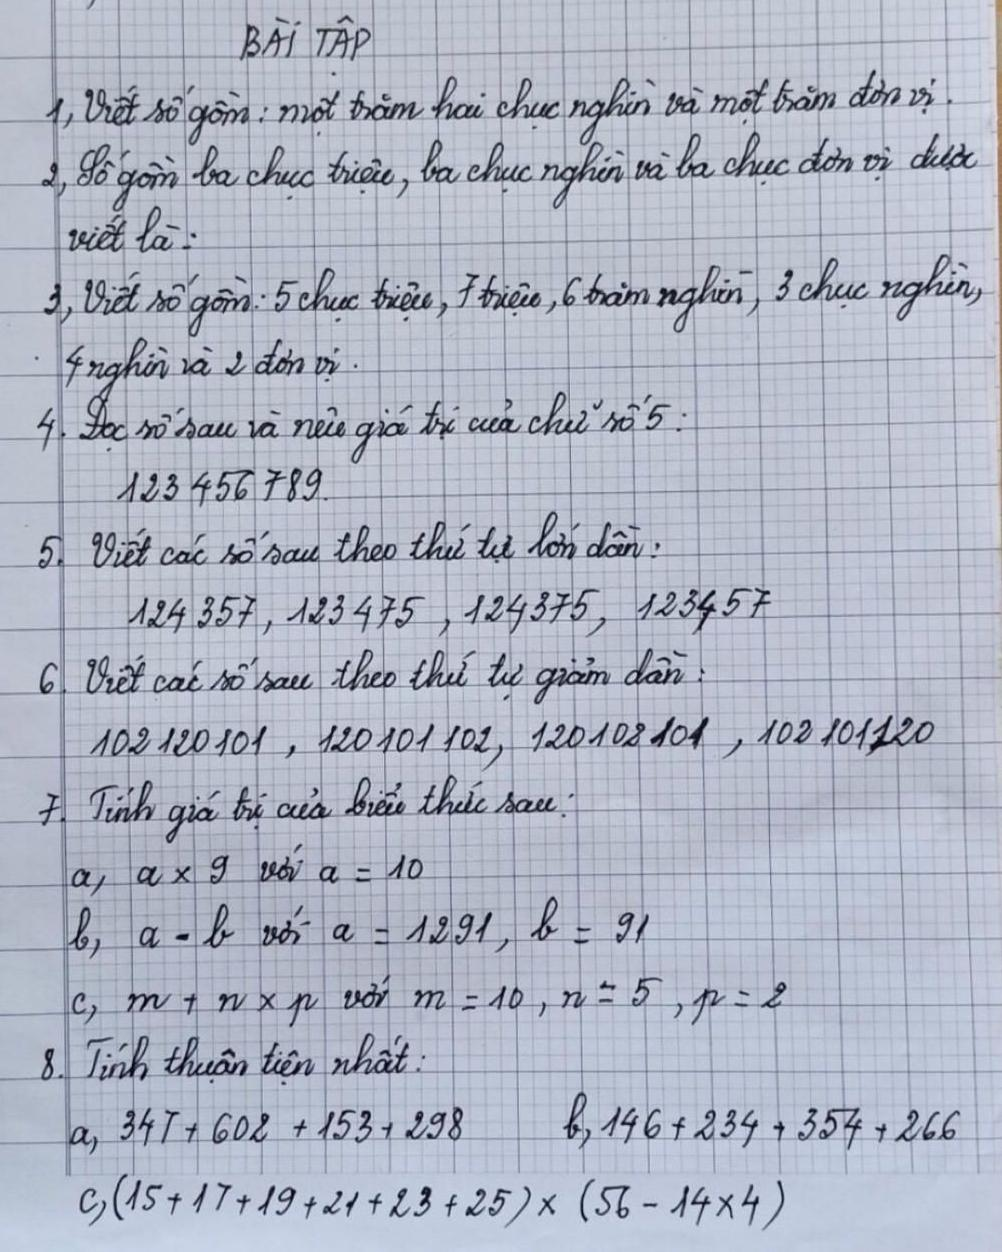text: (37, 247, 987, 345), (37, 123, 985, 215), (43, 63, 955, 151), (81, 707, 941, 777), (29, 387, 689, 469), (31, 641, 709, 713), (71, 1169, 791, 1237), (63, 889, 655, 967), (65, 971, 791, 1033), (29, 505, 667, 575), (35, 773, 579, 849), (119, 581, 777, 643), (555, 1085, 971, 1163), (57, 1099, 467, 1161), (31, 1027, 431, 1091), (65, 837, 432, 905), (55, 333, 357, 407), (109, 463, 329, 515), (231, 11, 379, 83), (59, 199, 199, 261)
